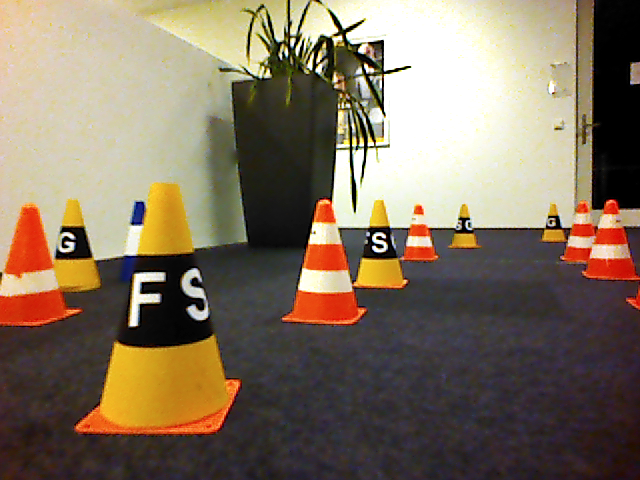orangeconesmall: (281, 199, 369, 327), (586, 199, 638, 282), (400, 205, 442, 262), (565, 202, 594, 263)
yellowcone: (71, 180, 243, 438), (354, 199, 409, 292), (54, 198, 102, 293), (448, 204, 481, 250), (540, 204, 569, 243)
